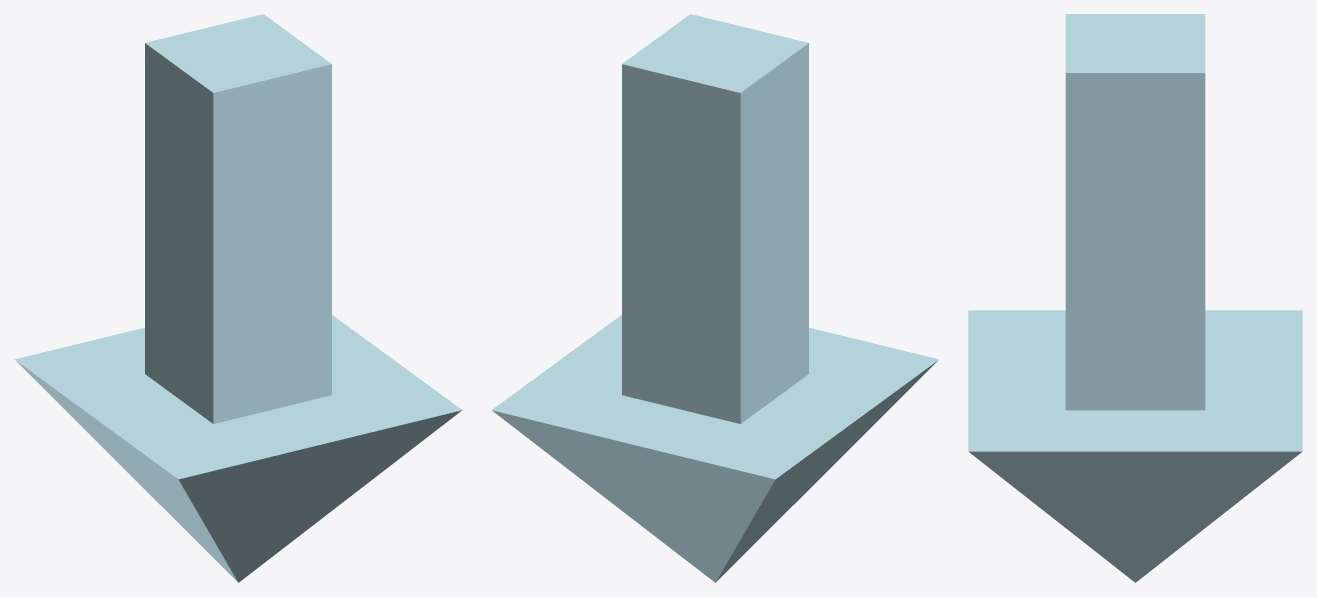
File: arrow.gltf
The picture shows the model from 3 angles, left to right: view 1: azimuth 30°, elevation 25°; view 2: azimuth 150°, elevation 25°; view 3: azimuth 270°, elevation 25°; orthographic projection.
Visible parts, largest first — view 1: Box001; view 2: Box001; view 3: Box001.
Part boxes in pixels (x1,y1,x2,y2): Box001: [15, 14, 461, 582]; Box001: [492, 14, 938, 582]; Box001: [968, 14, 1302, 582].
Size of the model in its own units: 14.14 by 25.19 by 14.14.
